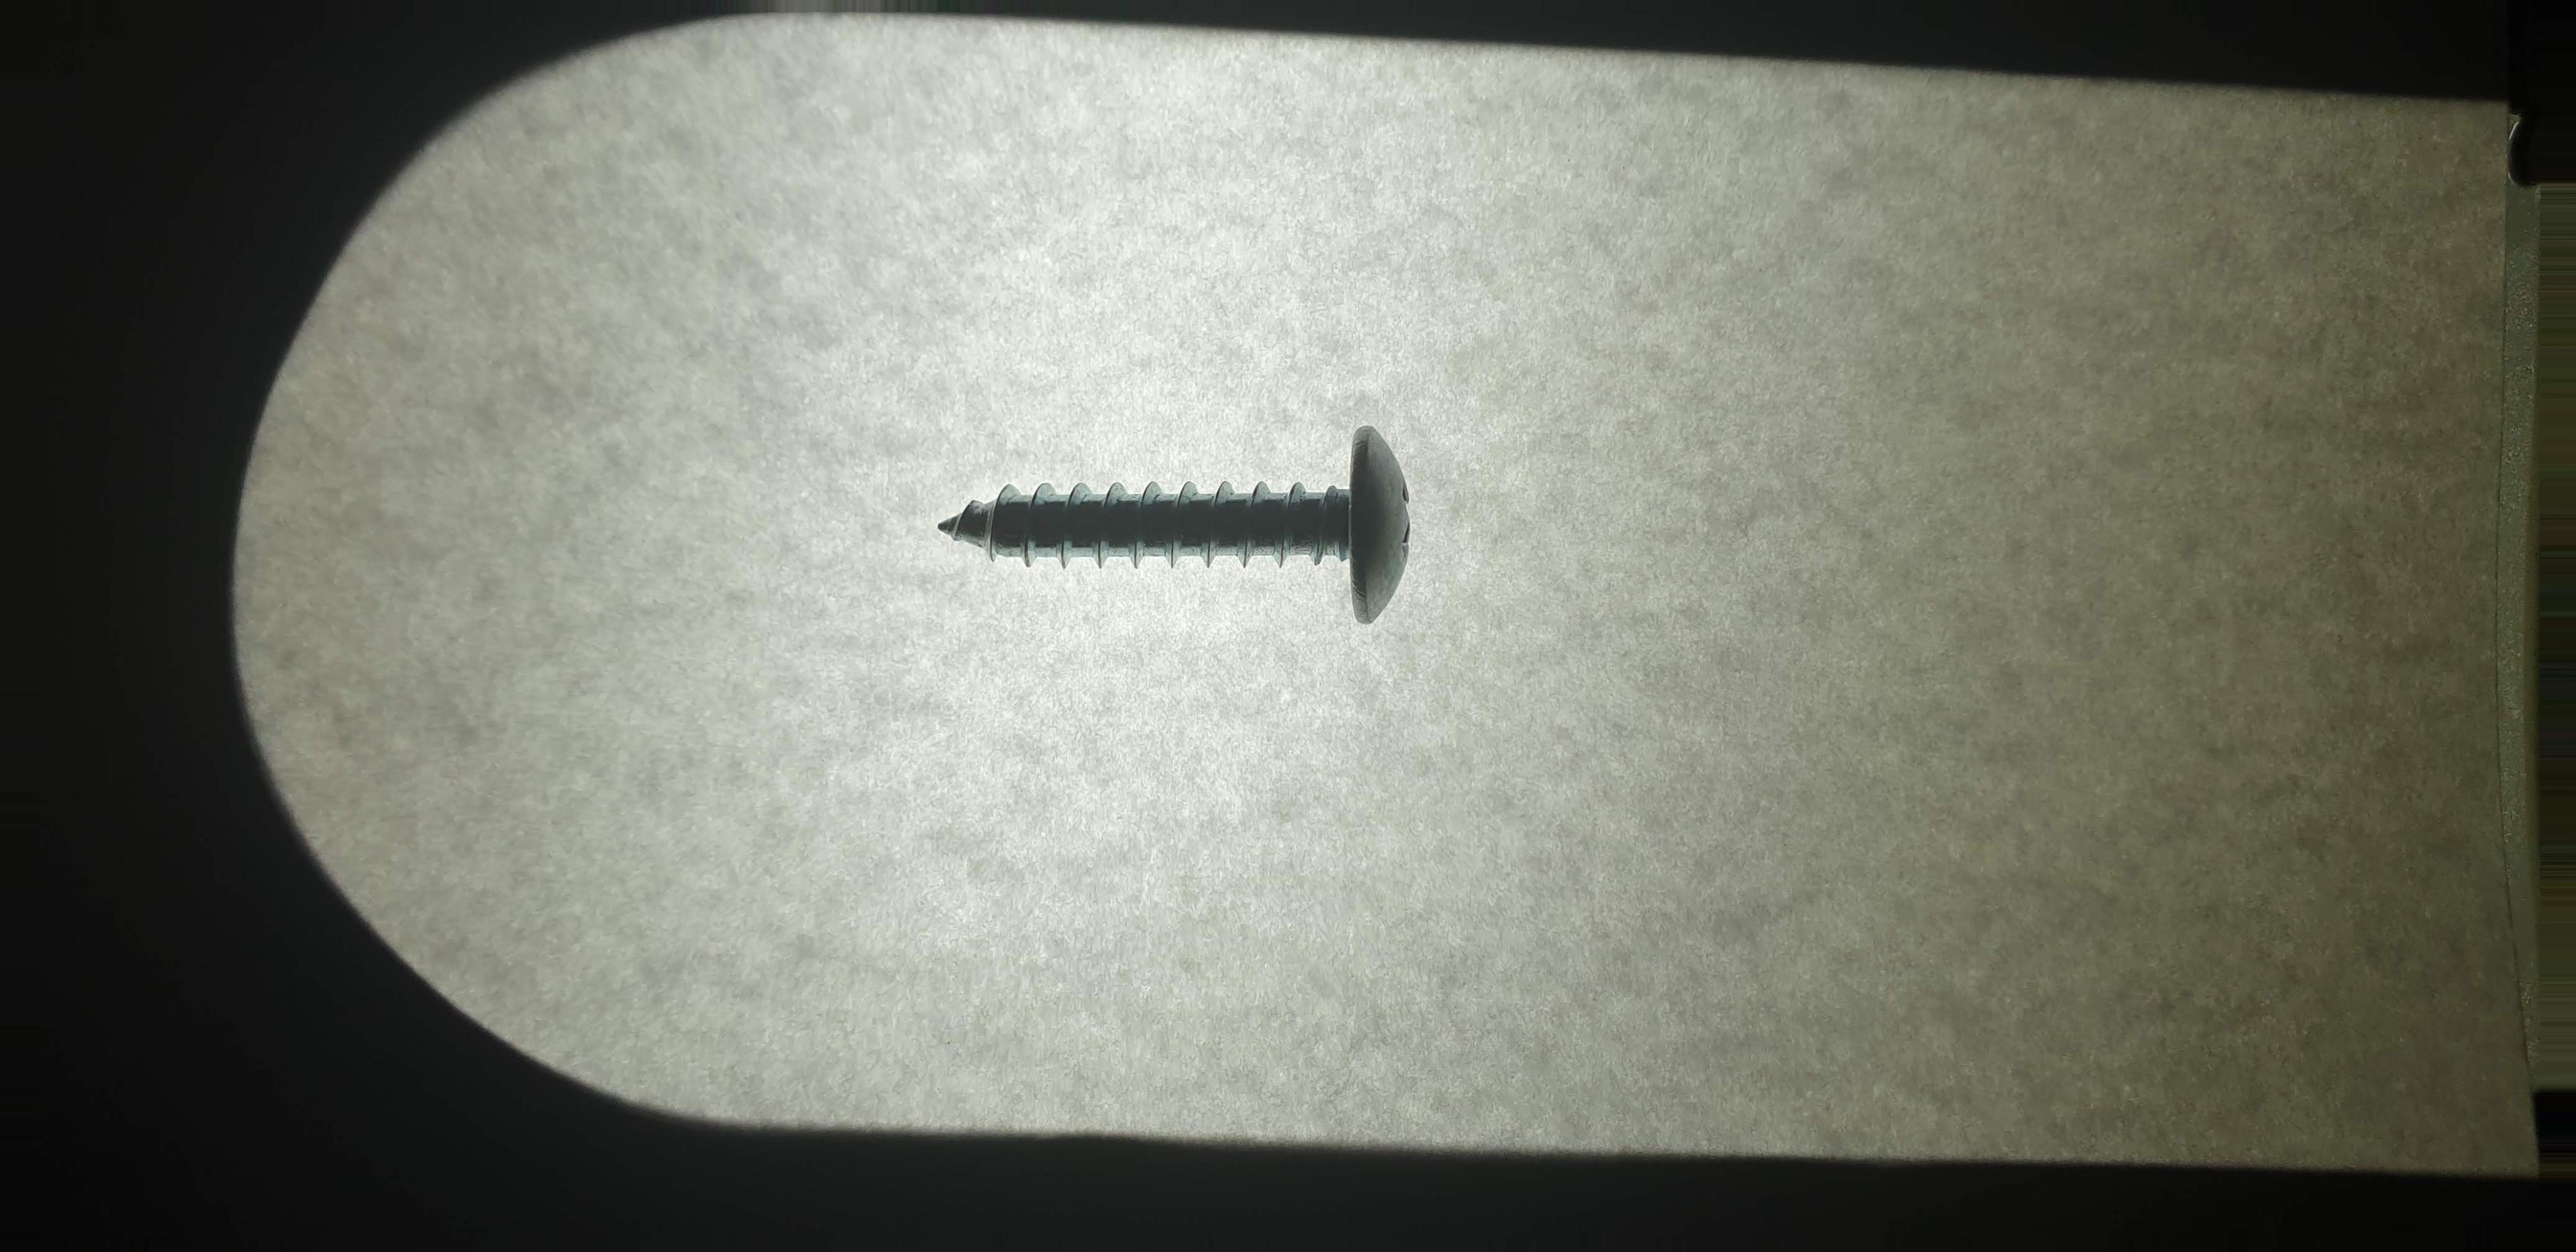S002: (920, 389, 1470, 661)
